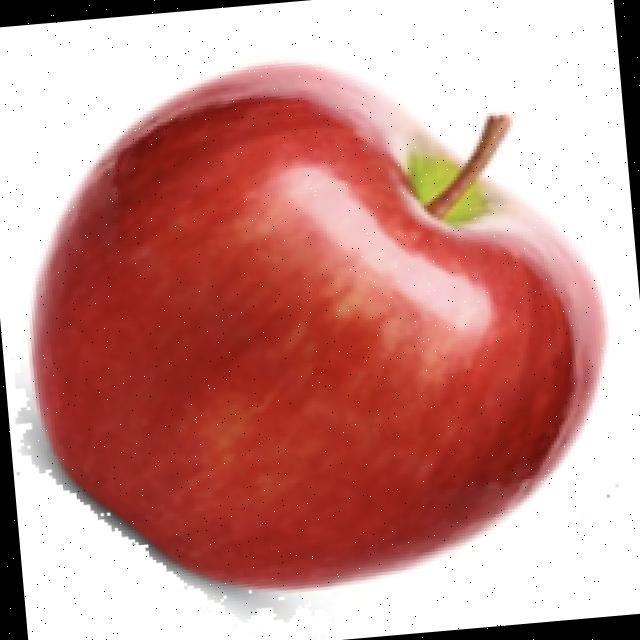apple: (12, 55, 613, 625)
